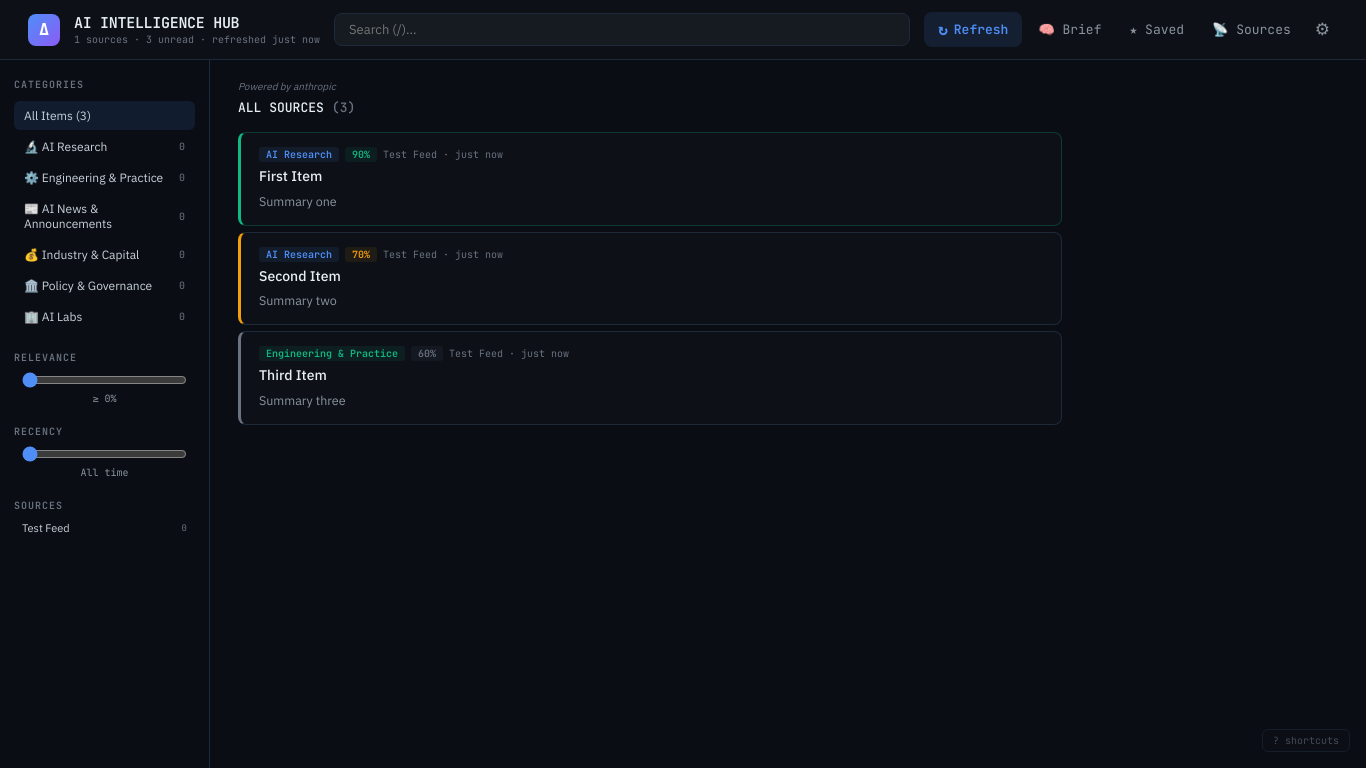
Test case: Summarize Feature › Summarize button appears in expanded item actions
# Click to expand the first item
Step 1. Click the text "First Item" → click(291, 176), box [259, 167, 322, 185]
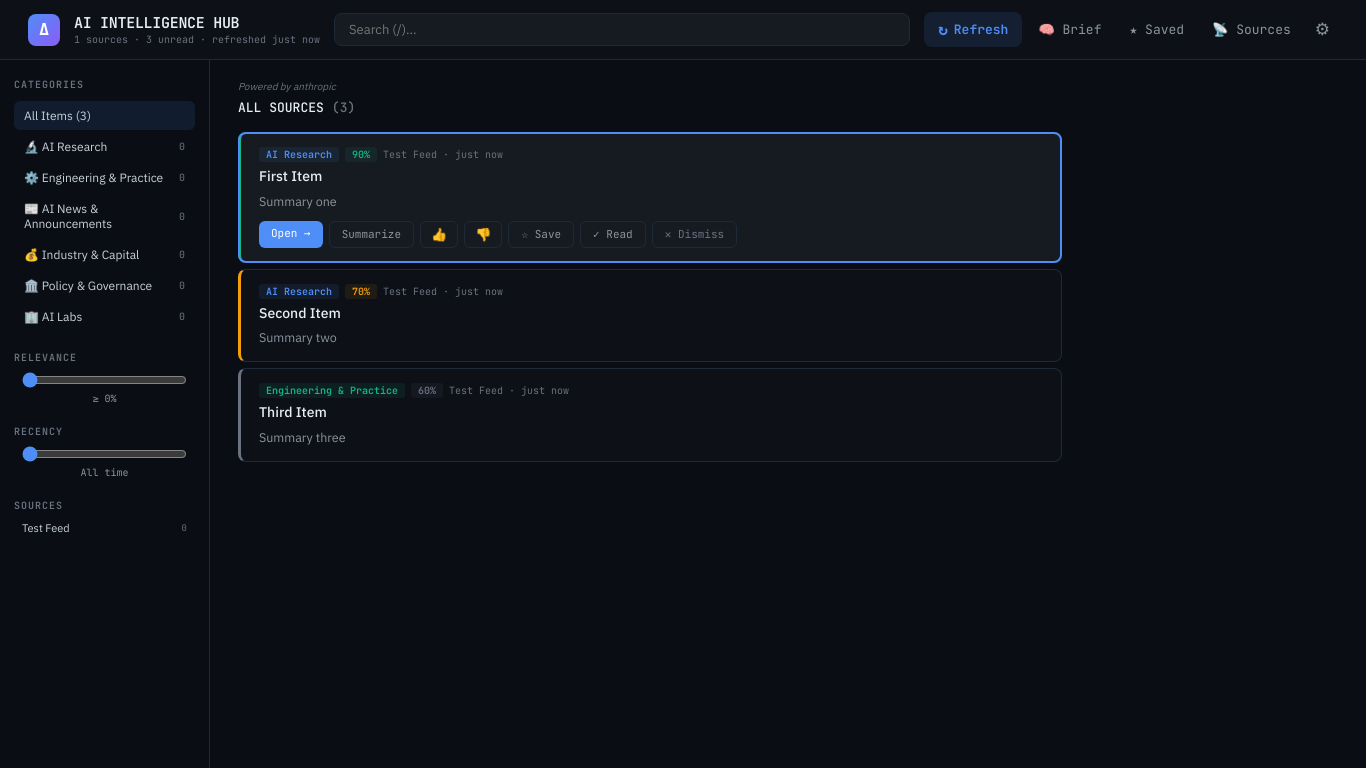
Expected: the button "Summarize" is shown, [329, 221, 414, 248]
